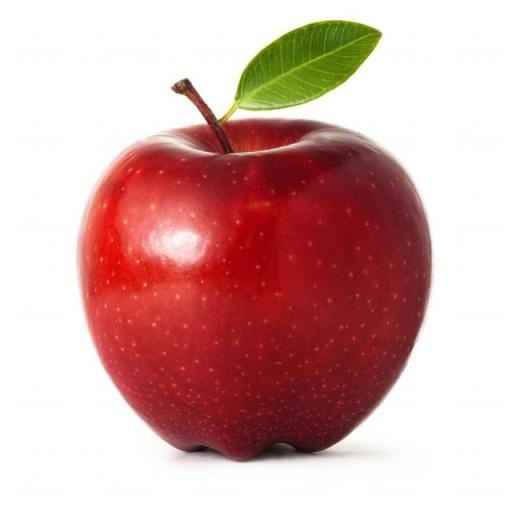fruit: (79, 22, 431, 459)
